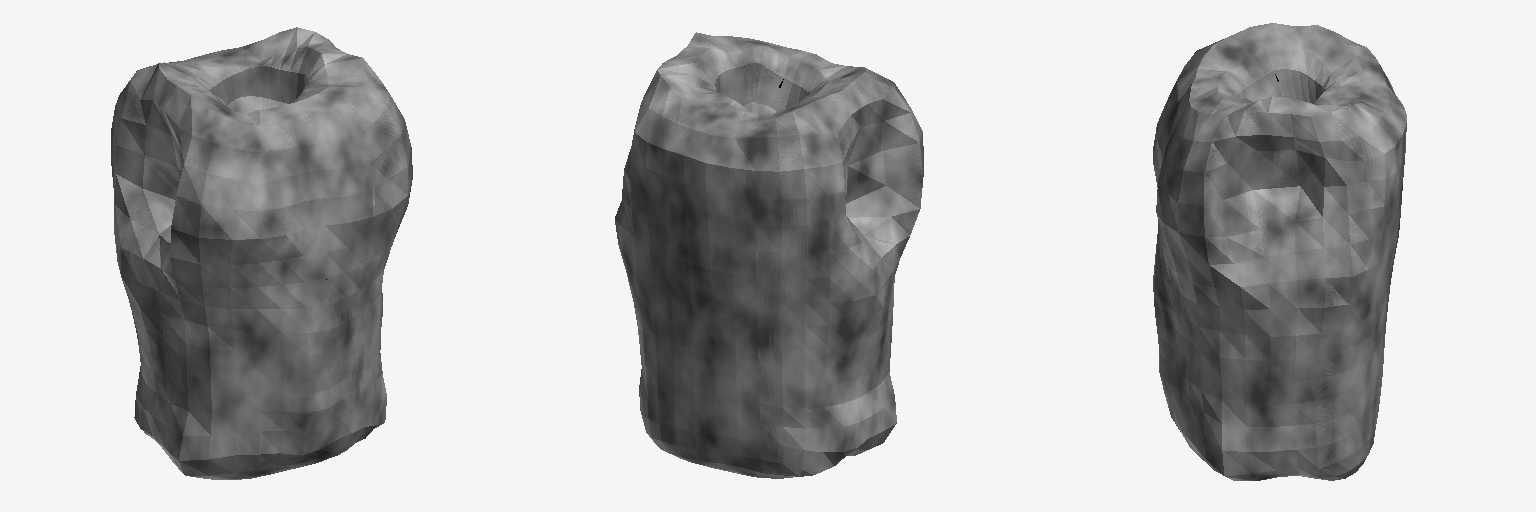
3 views of the same model, side by side, from view 1: azimuth 30°, elevation 25°; view 2: azimuth 150°, elevation 25°; view 3: azimuth 270°, elevation 25° (orthographic).
Parts seen in each view (by area): view 1: Mesh_Cylinder; view 2: Mesh_Cylinder; view 3: Mesh_Cylinder.
Part boxes in pixels (x1,y1,x2,y2): Mesh_Cylinder: (111,27,412,479); Mesh_Cylinder: (615,32,923,478); Mesh_Cylinder: (1153,23,1406,480).
Size of the model in its own units: 0.3924 by 0.5965 by 0.3562.
Materials: 1 (1 with a texture image).